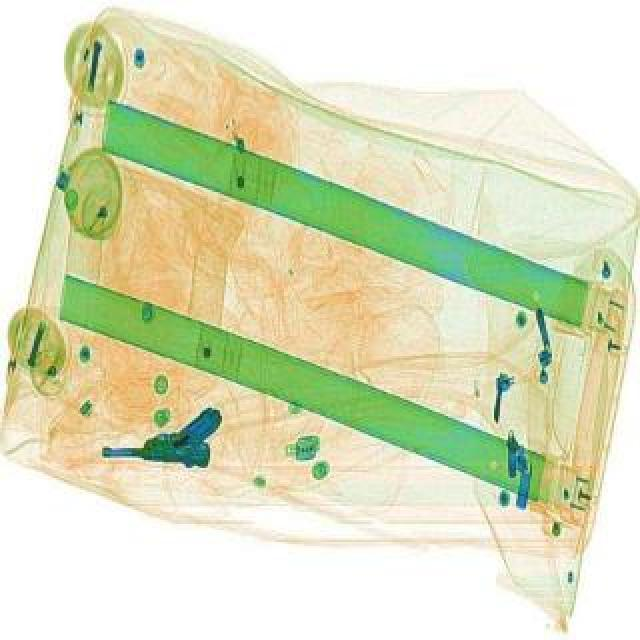gun: (100, 406, 224, 468)
